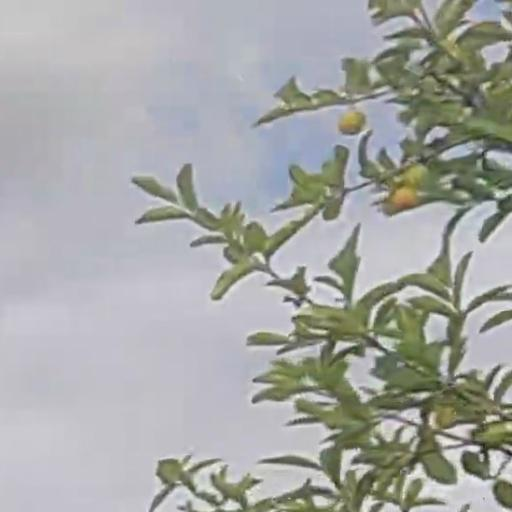acerola: (394, 189, 420, 209), (341, 112, 364, 134)
